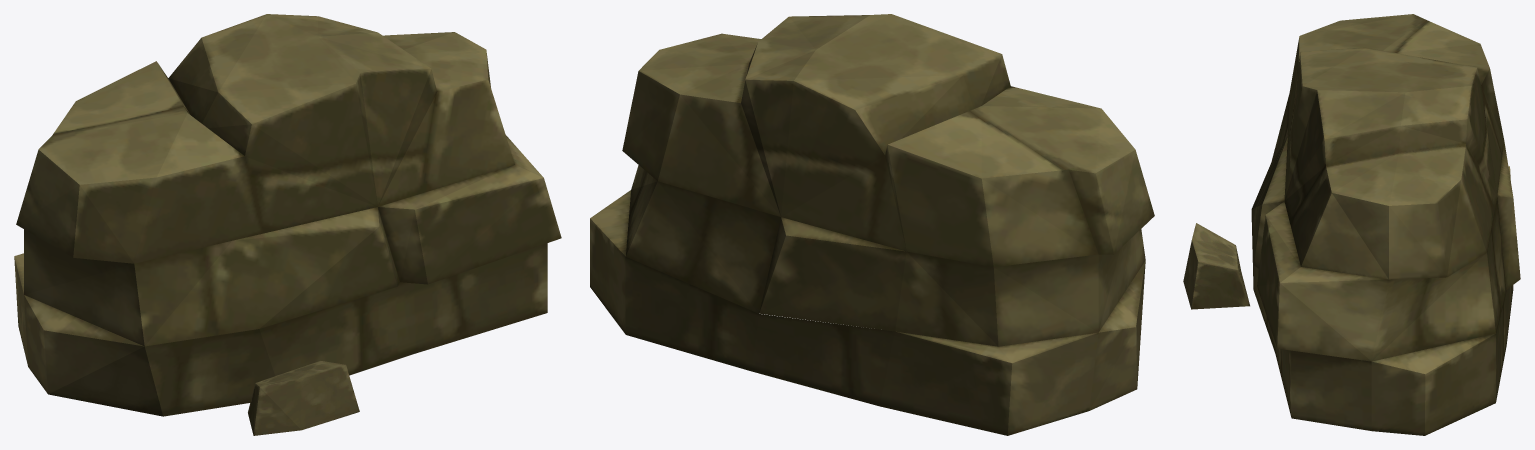
File: rockwall_straight_02.fbx
3 renders of one model, left to right at view 1: azimuth 30°, elevation 25°; view 2: azimuth 150°, elevation 25°; view 3: azimuth 270°, elevation 25°, orthographic. The views are drawn at different scales.
Visible parts, largest first — view 1: obj0.148; view 2: obj0.148; view 3: obj0.148.
Part boxes in pixels (<box>): obj0.148: <box>14,14,561,435</box>; obj0.148: <box>590,14,1154,435</box>; obj0.148: <box>1183,14,1520,435</box>.
Bounding box in the file's own units: 4.53 × 2.34 × 2.86.
